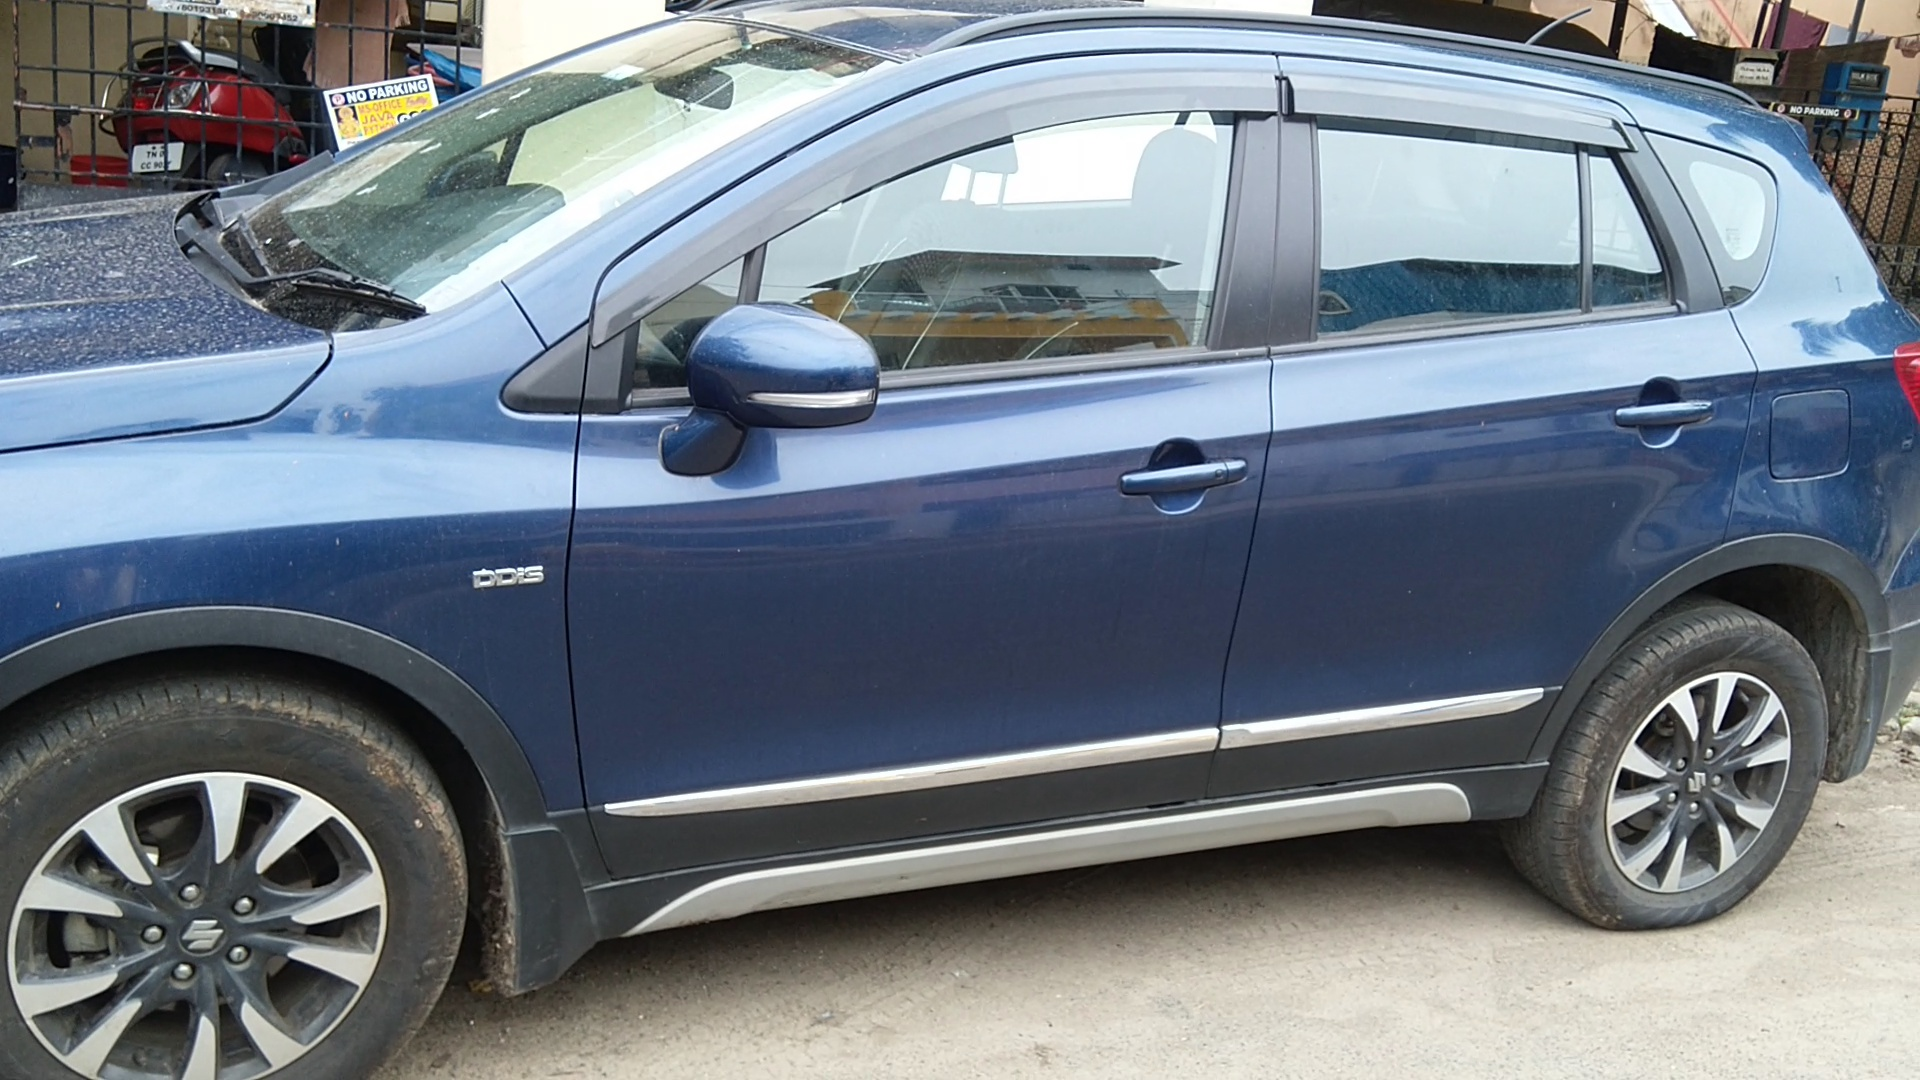alloy_wheel: (1, 690, 458, 1080), (1516, 584, 1838, 940)
ovr_mirror: (655, 290, 887, 475)
